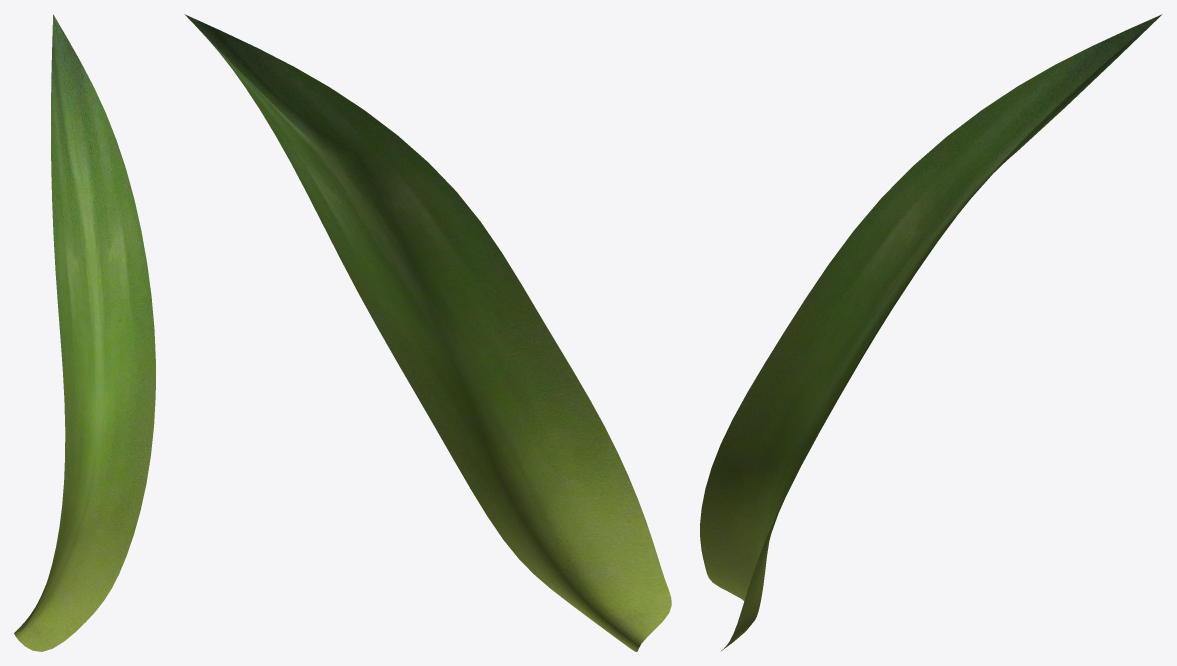
The picture shows the model from 3 angles, left to right: view 1: azimuth 30°, elevation 25°; view 2: azimuth 150°, elevation 25°; view 3: azimuth 270°, elevation 25°; orthographic projection. The views are drawn at different scales.
Visible parts, largest first — view 1: indoor plant_02.001; view 2: indoor plant_02.001; view 3: indoor plant_02.001.
Part boxes in pixels (x1=…): indoor plant_02.001: x1=14, y1=14, x2=155, y2=651; indoor plant_02.001: x1=184, y1=14, x2=671, y2=651; indoor plant_02.001: x1=700, y1=14, x2=1161, y2=650.
Bounding box in the file's own units: 0.5054 × 1.25 × 0.6996.
1 material, 1 textured.
